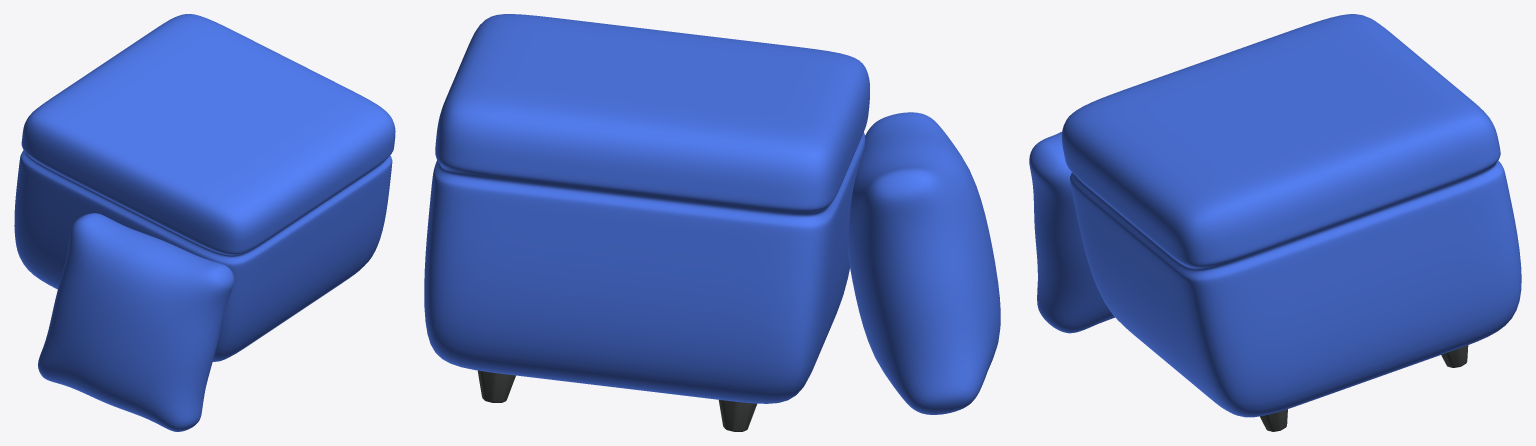
Rendered from SQUARE-SOFA.glb.
3 views of the same model, side by side, from view 1: azimuth 30°, elevation 25°; view 2: azimuth 150°, elevation 25°; view 3: azimuth 270°, elevation 25° (orthographic). The views are drawn at different scales.
Visible parts, largest first — view 1: Seat_sofa, Pillow; view 2: Seat_sofa, Pillow, Cylinder.009; view 3: Seat_sofa, Pillow, Cylinder.009.
Part boxes in pixels (x1,y1,x2,y2): Seat_sofa: (14, 14, 395, 361); Pillow: (38, 213, 234, 431); Seat_sofa: (424, 14, 869, 403); Pillow: (848, 112, 1000, 414); Cylinder.009: (477, 370, 756, 431); Seat_sofa: (1062, 14, 1521, 417); Pillow: (1029, 132, 1114, 333); Cylinder.009: (1260, 345, 1468, 431).
Size of the model in its own units: 3.85 by 2.68 by 3.75.
